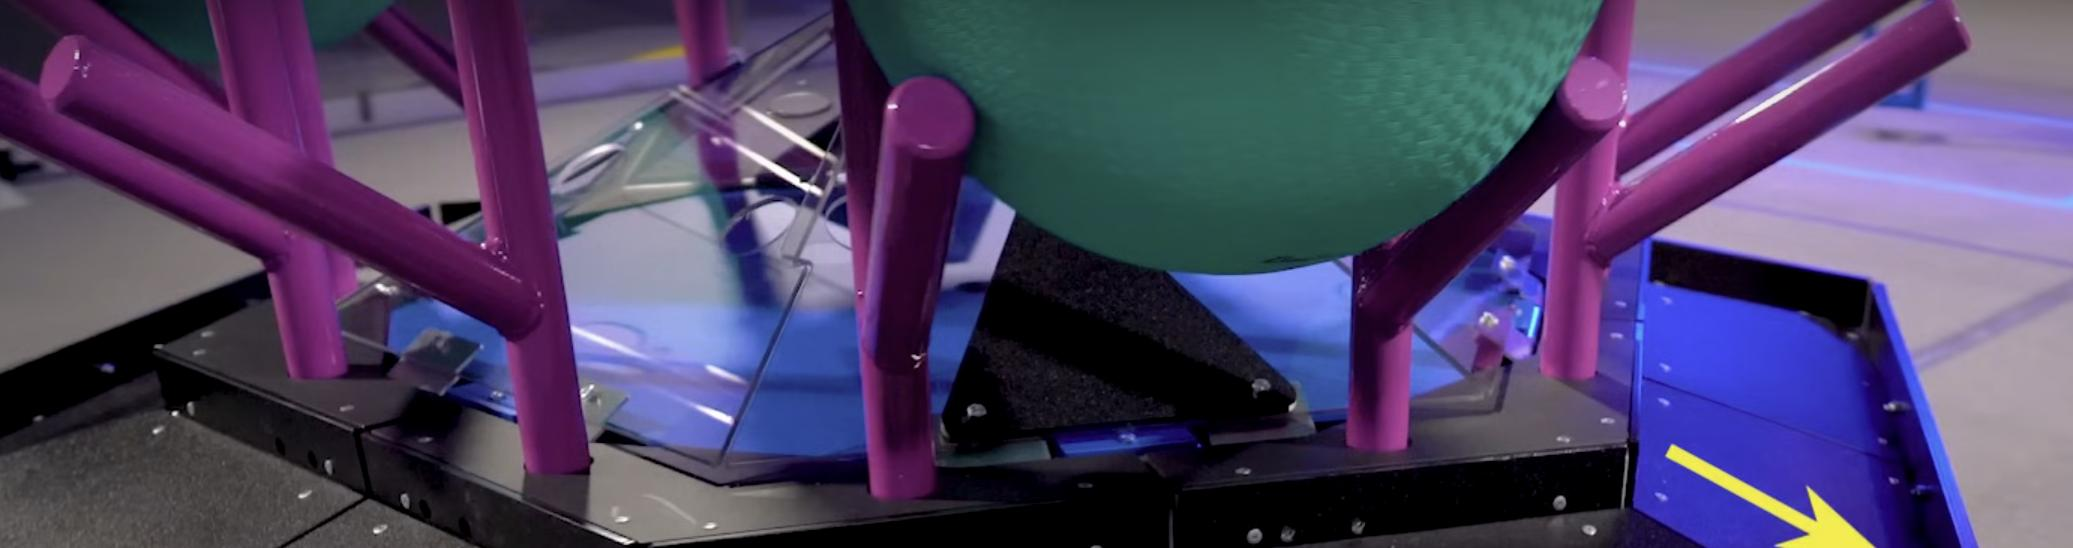algae: (845, 1, 1610, 276), (0, 0, 391, 94)
